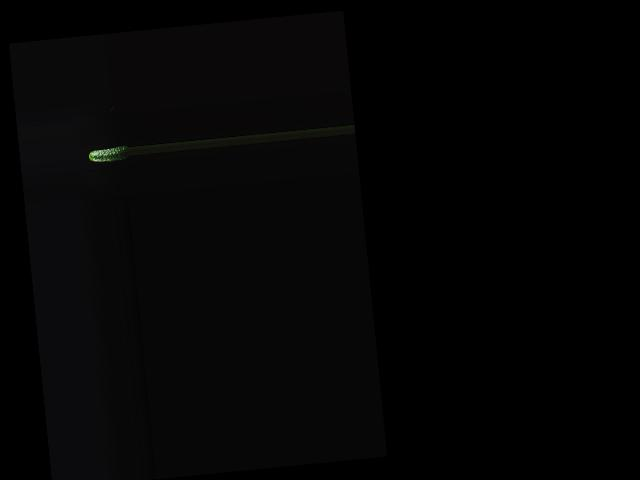cucumber: (88, 144, 130, 163)
